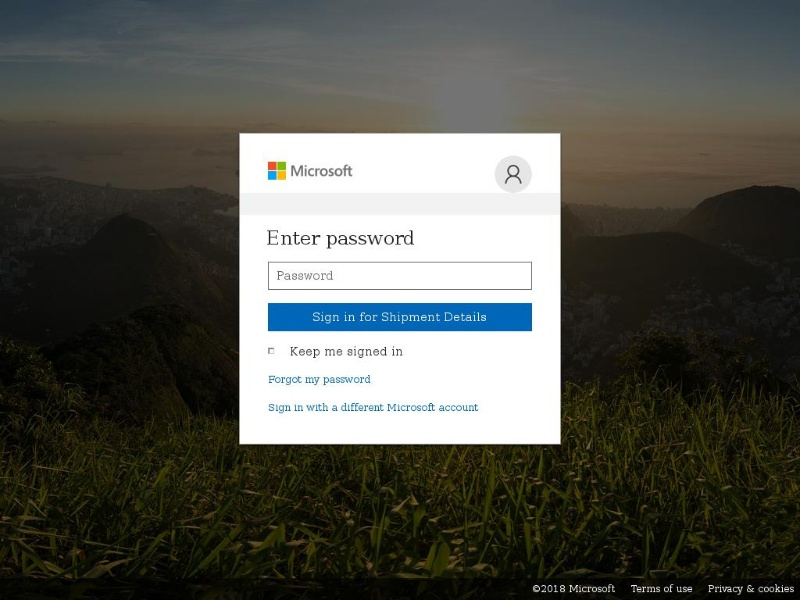msft: (258, 157, 376, 191)
